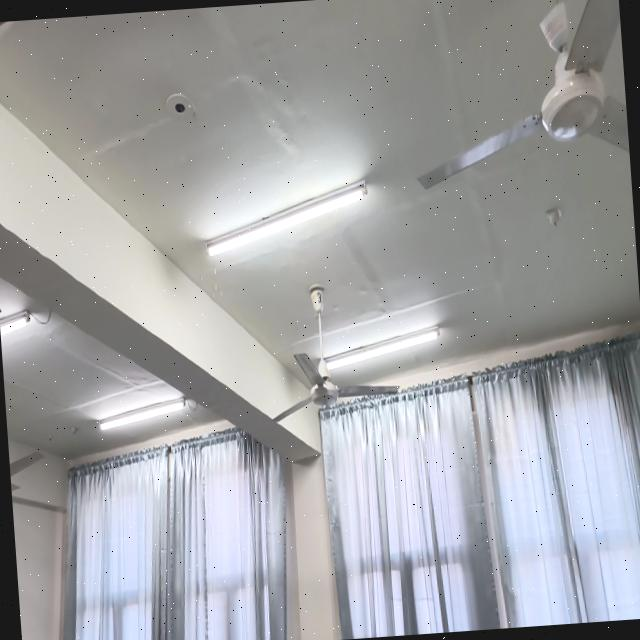Light: (206, 180, 367, 256), (326, 325, 439, 371), (99, 396, 198, 430), (0, 309, 32, 334)
